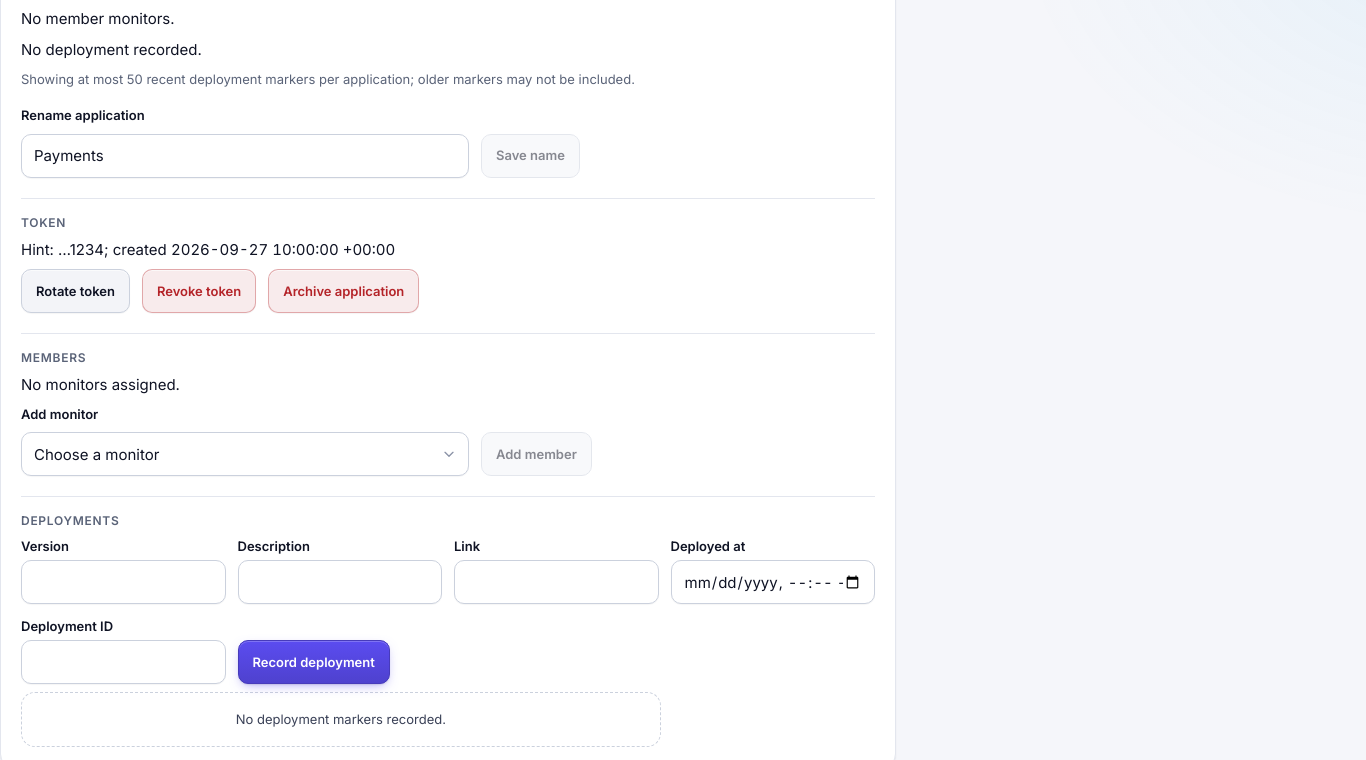
Scenario: clears prior marker success before displaying duplicate deployment error
The width and height of the screenshot is (1366, 760).
(page scrolled)
Type "1.0" into the field labelled "Version" at (123, 582), box x1=21 y1=560 x2=226 y2=604
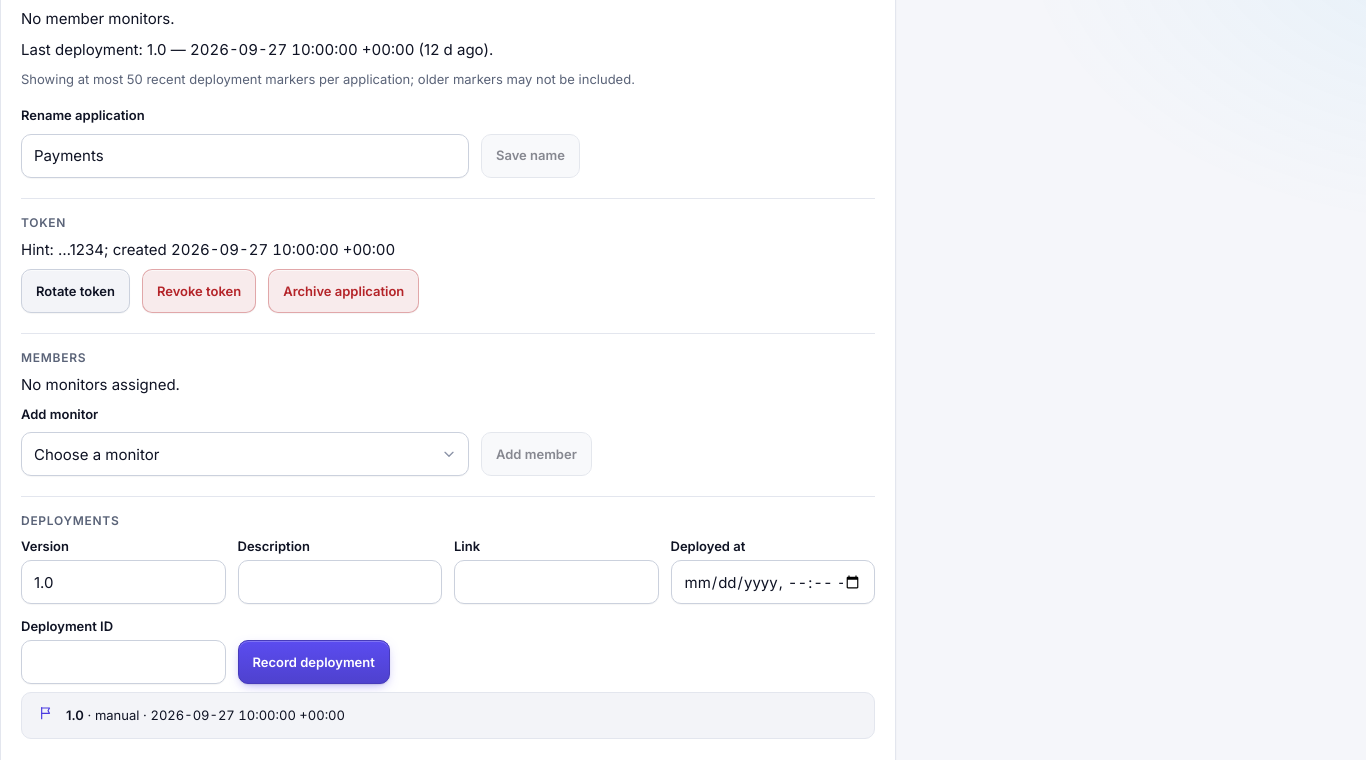
Click the button "Record deployment" at (314, 662), box x1=238 y1=640 x2=390 y2=684
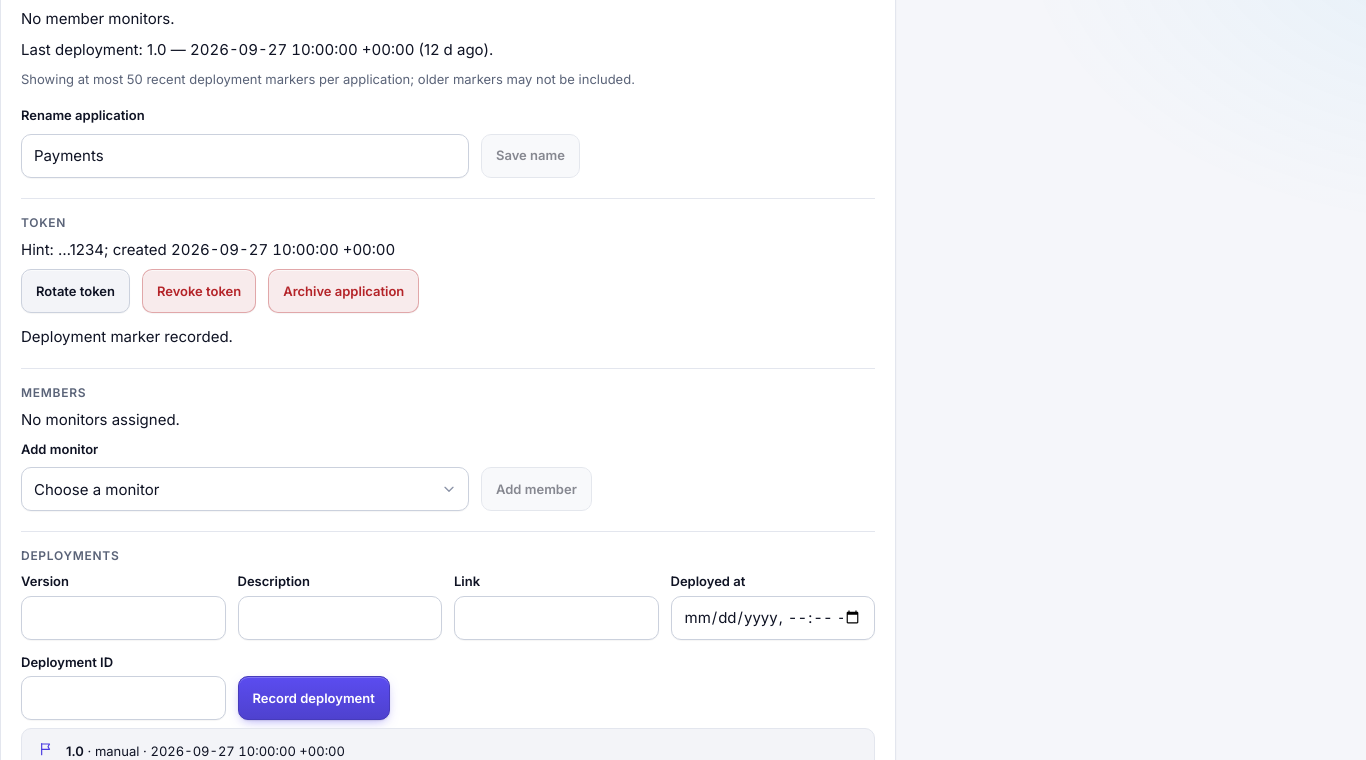
Expected: the text "Deployment marker recorded." is shown, x1=21 y1=327 x2=233 y2=346
Type "1.0" into the field labelled "Version" at (123, 618), box x1=21 y1=596 x2=226 y2=640
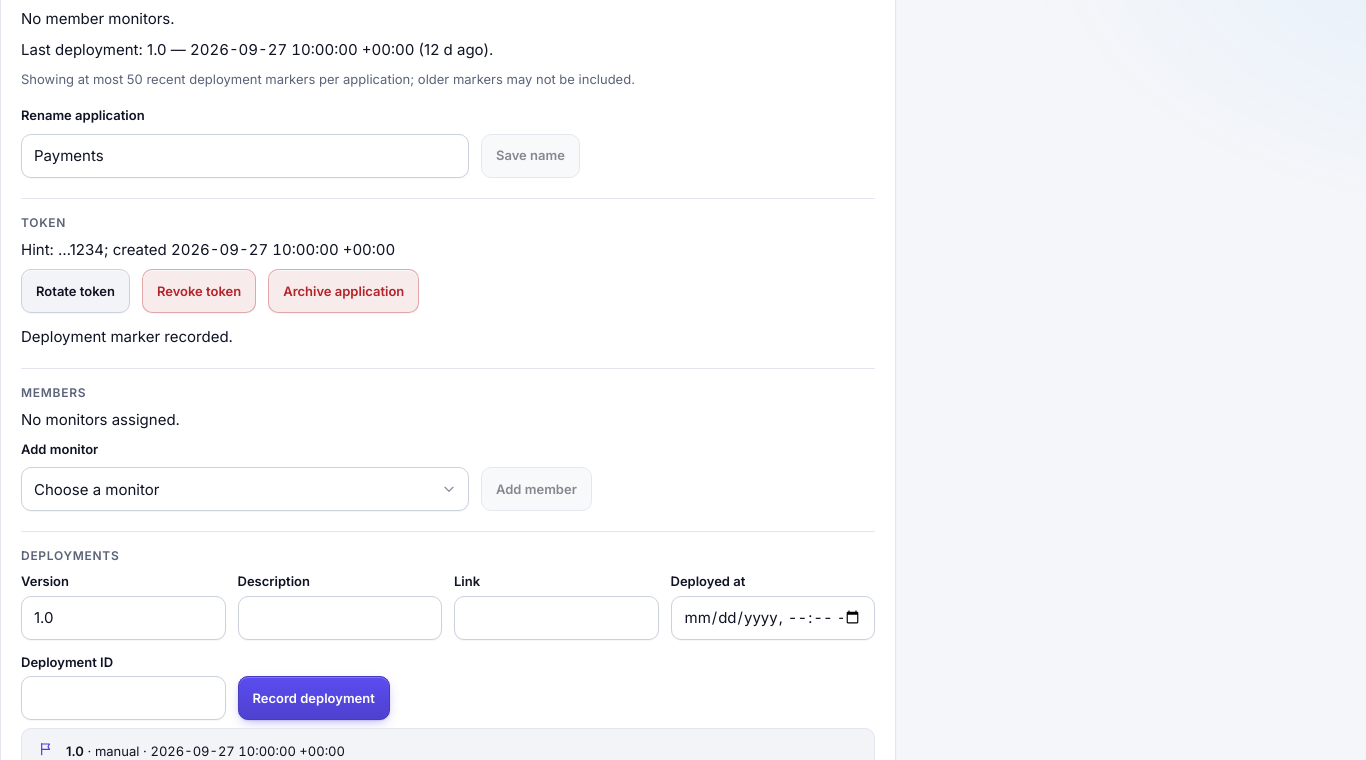
Click the button "Record deployment" at (314, 698), box x1=238 y1=676 x2=390 y2=720
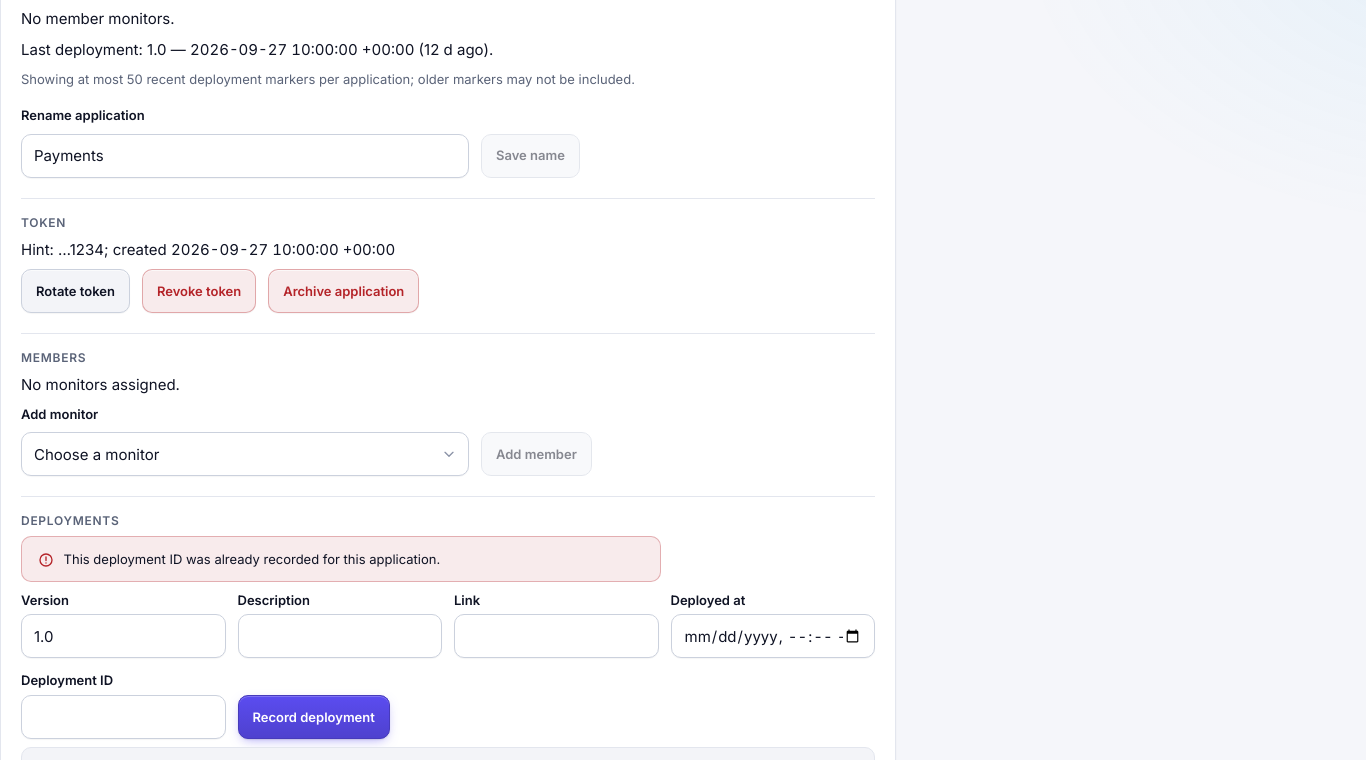
Expected: the text "This deployment ID was already recorded for this application." is shown, x1=21 y1=536 x2=661 y2=582
Expected: the text "Deployment marker recorded." is gone
